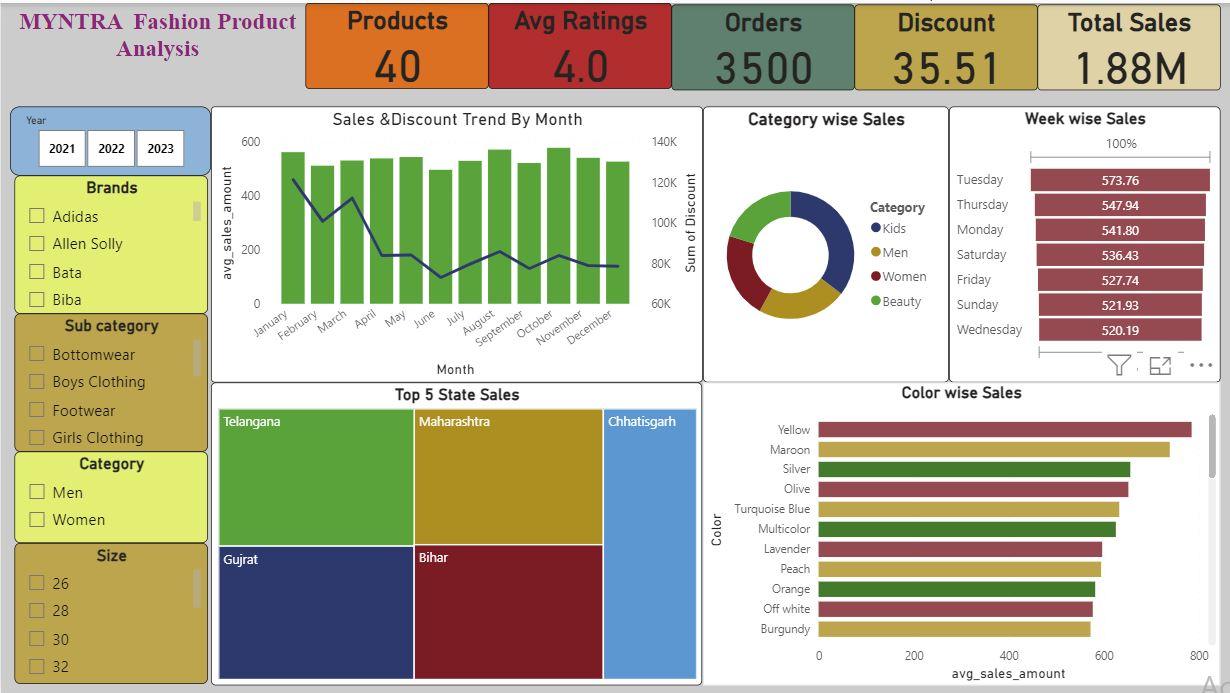

What the dashboard file says about the page in this screenshot:
{"tool":"powerbi","page":{"name":"Page 1","canvas":[1280,720],"ordinal":0},"visuals":[{"type":"textbox","box":[9.4,0,307.7,89],"z":0},{"type":"card","title":"Products","fields":{"Values":["Count(dim_products.Product Name)"]},"box":[317,0,190.5,89],"z":1000},{"type":"card","title":"Avg Ratings","fields":{"Values":["dim_products.Avg_ratings"]},"box":[507.6,0,190.5,89],"z":2000},{"type":"card","title":"Orders","fields":{"Values":["fact_orders.Total_order"]},"box":[698.1,1.6,190.5,89],"z":3000},{"type":"card","title":"Discount","fields":{"Values":["fact_orders.Avg_discount"]},"box":[888.7,1.6,190.5,89],"z":4000},{"type":"card","title":"Total Sales","fields":{"Values":["fact_orders.Total_sales_amount"]},"box":[1079.2,1.6,190.5,89],"z":5000},{"type":"slicer","title":"Brands","fields":{"Values":["dim_products.Brand Name"]},"box":[14.1,179.6,201.5,143.7],"z":6000},{"type":"slicer","title":"Sub category","fields":{"Values":["dim_products.Sub-category"]},"box":[14.1,323.3,201.5,143.7],"z":7000},{"type":"slicer","title":"Category","fields":{"Values":["dim_products.Category"]},"box":[14.1,467,201.5,95.3],"z":8000},{"type":"slicer","title":"Size","fields":{"Values":["dim_products.Size"]},"box":[14.1,562.3,201.5,146.8],"z":9000},{"type":"slicer","fields":{"Values":["Datetable.Year"]},"box":[9.4,107.8,209.3,71.8],"z":10000},{"type":"lineStackedColumnComboChart","title":"Sales &Discount Trend By Month","fields":{"Category":["Datetable.Date.Variation.Date Hierarchy.Month"],"Y":["fact_orders.avg_sales_amount"],"Y2":["Sum(fact_orders.Discount)"]},"box":[218.7,107.8,512.3,287.4],"z":11000},{"type":"donutChart","title":"Category wise Sales","fields":{"Y":["fact_orders.avg_sales_amount"],"Category":["dim_products.Category"]},"box":[730.9,107.8,256.1,287.4],"z":12001},{"type":"funnel","title":"Week wise Sales","fields":{"Category":["Datetable.Day ofWeek"],"Y":["fact_orders.avg_sales_amount"]},"box":[987.1,107.8,282.7,287.4],"z":12002},{"type":"treemap","title":"Top 5 State  Sales","fields":{"Group":["dim_customers.State"],"Values":["fact_orders.avg_sales_amount"]},"box":[219,394.6,511.6,315.3],"z":12003},{"type":"clusteredBarChart","title":"Color wise Sales","fields":{"Category":["dim_products.Color"],"Y":["fact_orders.avg_sales_amount"]},"box":[730.9,395.1,538.8,315.5],"z":12004}]}

Visuals, with their boxes in screenshot pixels (x1, y1, x2, y2), scaled from the page's 1280x720 canvas onto the 1230x693 screenshot:
textbox: [9, 0, 305, 86]
"Products" card: [305, 0, 488, 86]
"Avg Ratings" card: [488, 0, 671, 86]
"Orders" card: [671, 2, 854, 87]
"Discount" card: [854, 2, 1037, 87]
"Total Sales" card: [1037, 2, 1220, 87]
"Brands" slicer: [14, 173, 207, 311]
"Sub category" slicer: [14, 311, 207, 449]
"Category" slicer: [14, 449, 207, 541]
"Size" slicer: [14, 541, 207, 683]
slicer - Datetable.Year: [9, 104, 210, 173]
"Sales &Discount Trend By Month" lineStackedColumnComboChart: [210, 104, 702, 380]
"Category wise Sales" donutChart: [702, 104, 948, 380]
"Week wise Sales" funnel: [949, 104, 1220, 380]
"Top 5 State  Sales" treemap: [210, 380, 702, 683]
"Color wise Sales" clusteredBarChart: [702, 380, 1220, 684]
